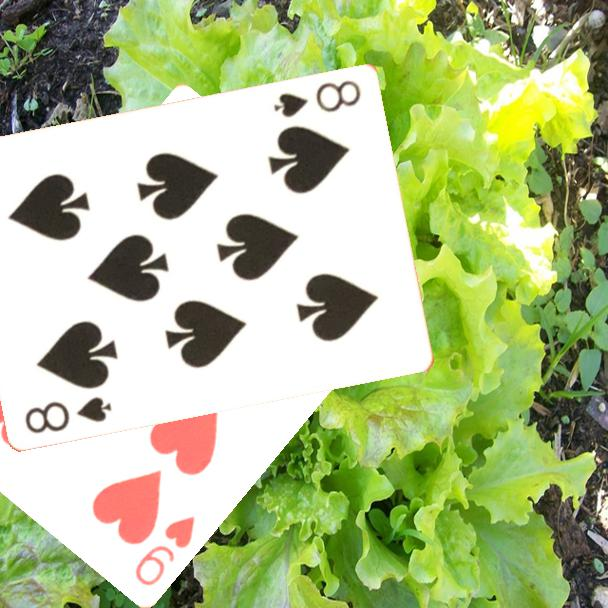h09: (131, 511, 198, 588)
s08: (270, 76, 364, 120), (21, 393, 115, 436)
